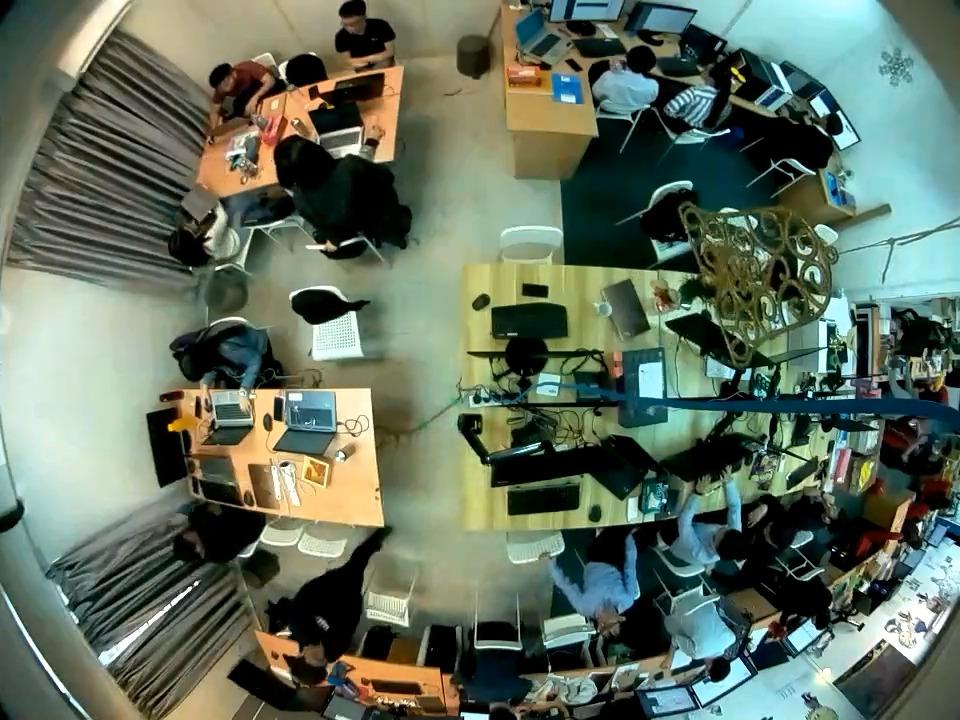name-tag: (312, 615, 333, 635)
